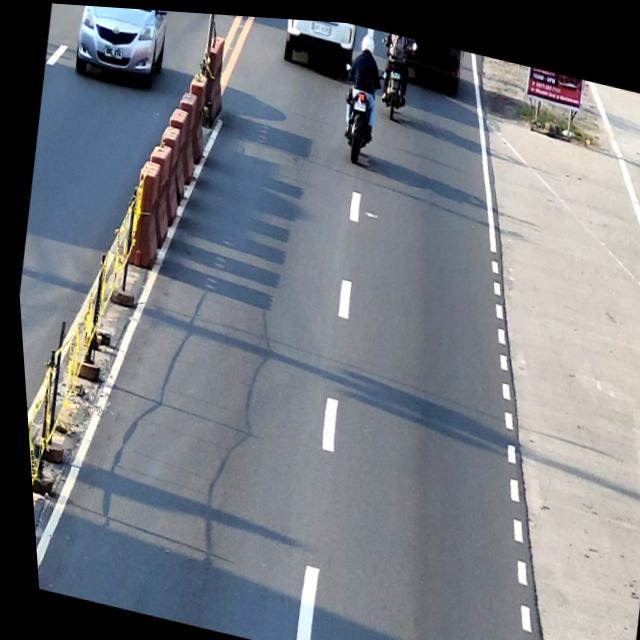Car: (65, 3, 177, 92), (279, 15, 359, 73)
License-Plate: (102, 44, 122, 58), (312, 17, 330, 31), (351, 94, 366, 107), (388, 65, 400, 75)
Motorcycle: (328, 58, 390, 164), (367, 28, 421, 121)
